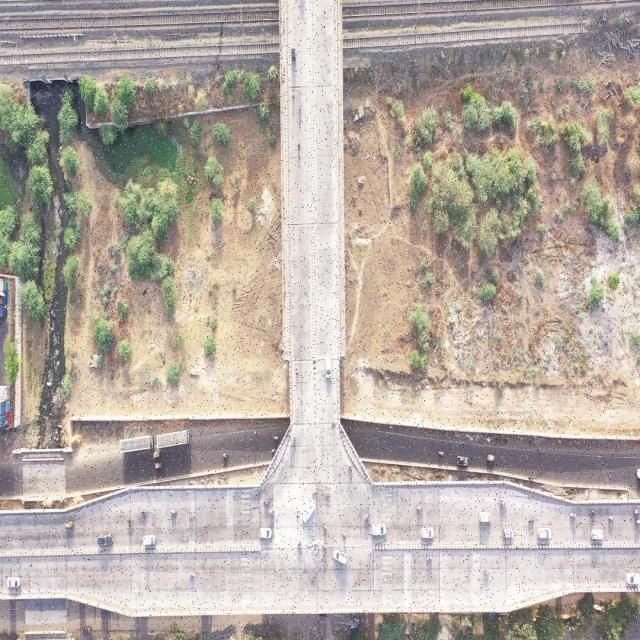3W: (63, 519, 75, 531), (318, 614, 327, 626), (486, 453, 495, 465), (291, 46, 297, 62), (83, 627, 92, 636), (155, 462, 164, 471), (153, 453, 162, 459)
Cars: (302, 499, 317, 524), (323, 356, 335, 379), (333, 548, 348, 566), (372, 522, 388, 536), (6, 576, 21, 590), (97, 534, 113, 547), (626, 572, 640, 586), (421, 526, 433, 541), (537, 527, 552, 539), (260, 527, 273, 540), (590, 529, 603, 541), (143, 535, 156, 546), (480, 513, 492, 524), (503, 528, 514, 539)
LCV: (455, 456, 471, 468)
M2W: (297, 537, 303, 550), (322, 541, 329, 552), (188, 572, 196, 581), (341, 528, 347, 540), (482, 567, 492, 574), (323, 519, 328, 532), (127, 518, 136, 525), (140, 509, 149, 516), (263, 497, 270, 506), (268, 508, 275, 517), (324, 489, 331, 498), (364, 513, 371, 522), (426, 555, 433, 564), (347, 463, 353, 473), (298, 99, 302, 114), (223, 451, 230, 459), (312, 489, 319, 497), (589, 510, 598, 516), (295, 364, 299, 377), (291, 86, 295, 99), (416, 505, 423, 512), (500, 500, 507, 507), (292, 433, 296, 445), (297, 137, 301, 149), (527, 518, 535, 524), (188, 514, 197, 519), (170, 509, 177, 515), (296, 506, 299, 520), (438, 451, 445, 457), (570, 512, 576, 519), (607, 515, 615, 520), (273, 436, 279, 441)
MAV: (156, 432, 191, 447), (119, 436, 155, 449)
